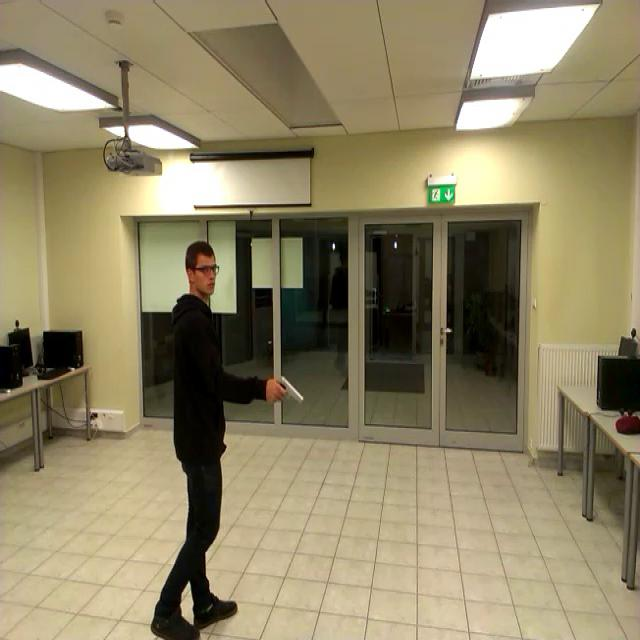handgun: (267, 364, 311, 422)
